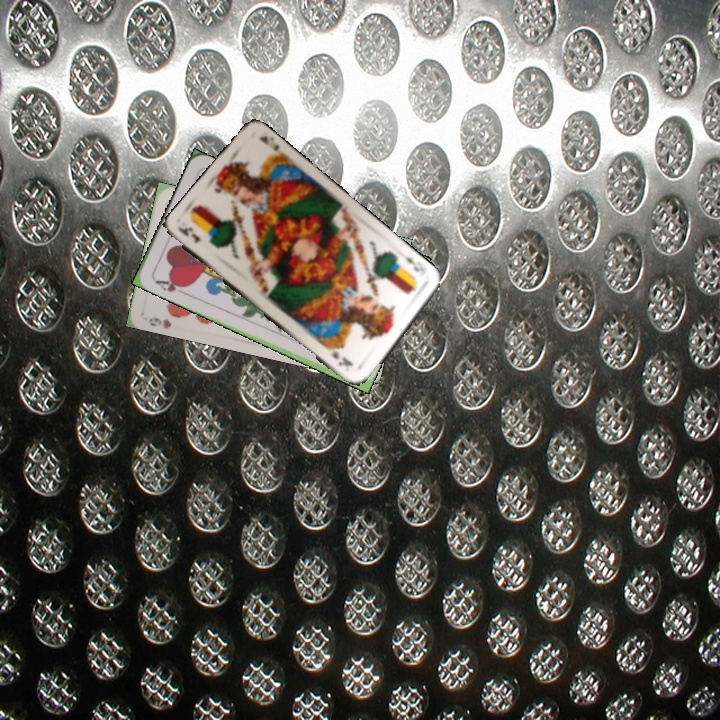EK: (399, 252, 428, 280), (176, 223, 203, 246)
H9: (145, 313, 174, 331)
HA: (150, 274, 190, 297)
